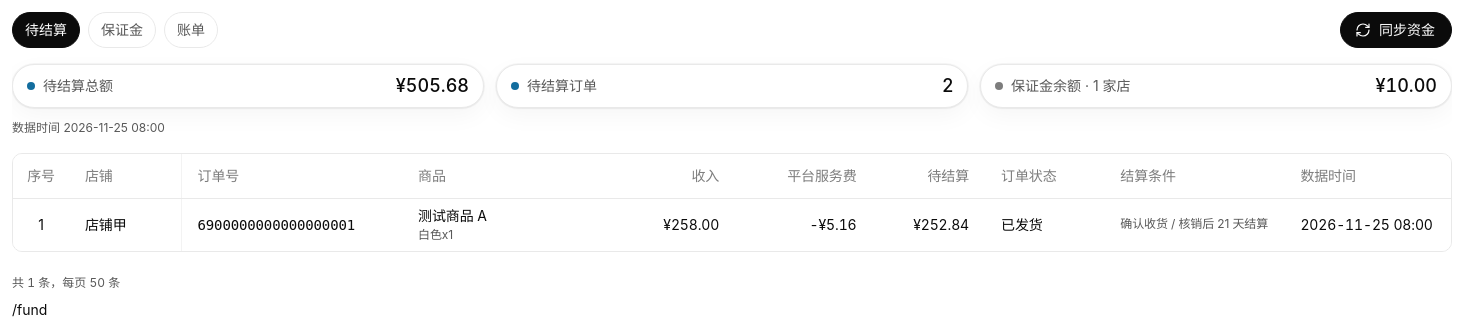
Test: 资金聚合页 › 待结算订单号能点击复制
Click the button "6900000000000000001".
click(276, 225)  # box [198, 216, 355, 235]
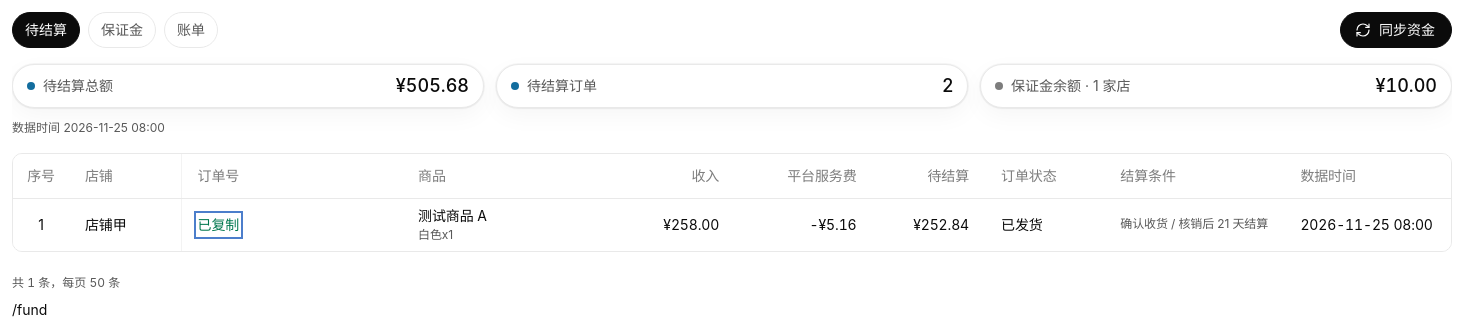
Expected: the text "已复制" is shown, [198, 216, 239, 232]
